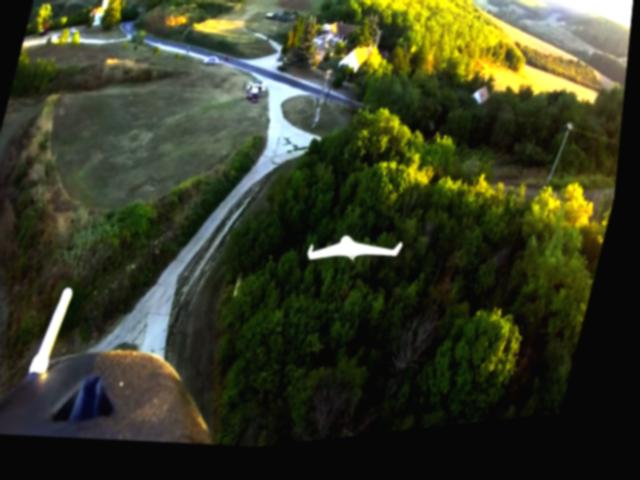plane: (308, 229, 413, 285)
